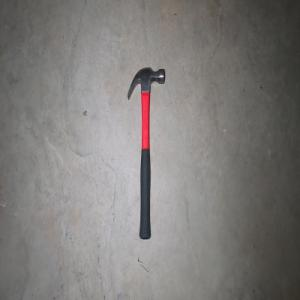Hammer: (126, 66, 165, 240)
